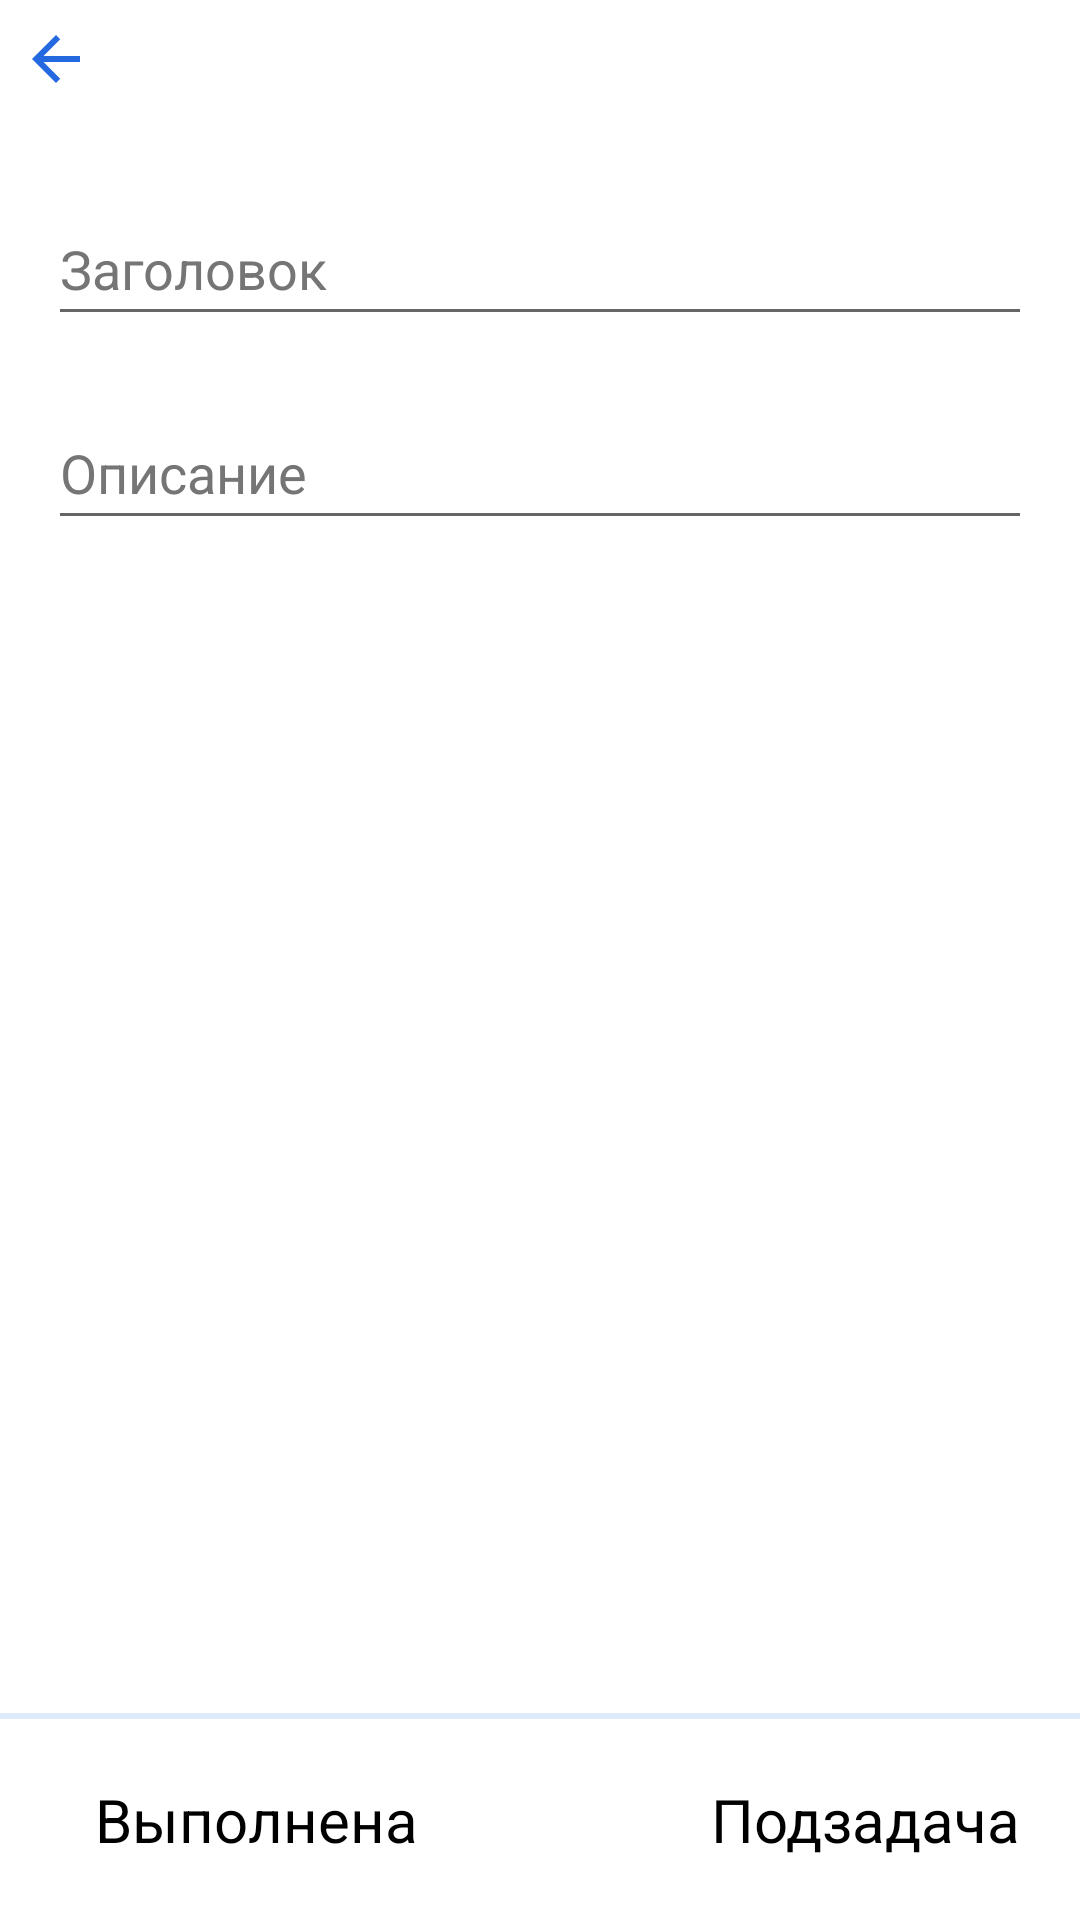

Where to tap for icons on this 1080 × 1920 app screen, as (x,y):
back: (56,59)
